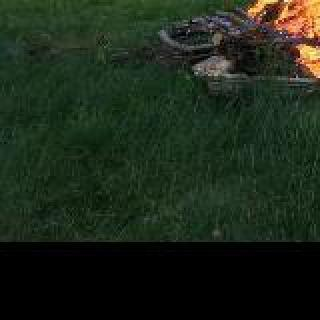fire: (254, 0, 320, 66)
